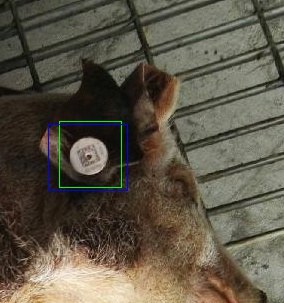text: (59, 121, 121, 187)
